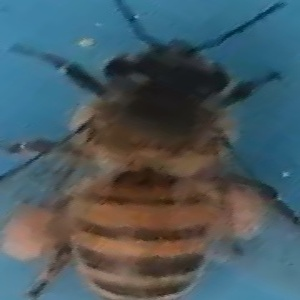bee: (7, 8, 290, 300)
